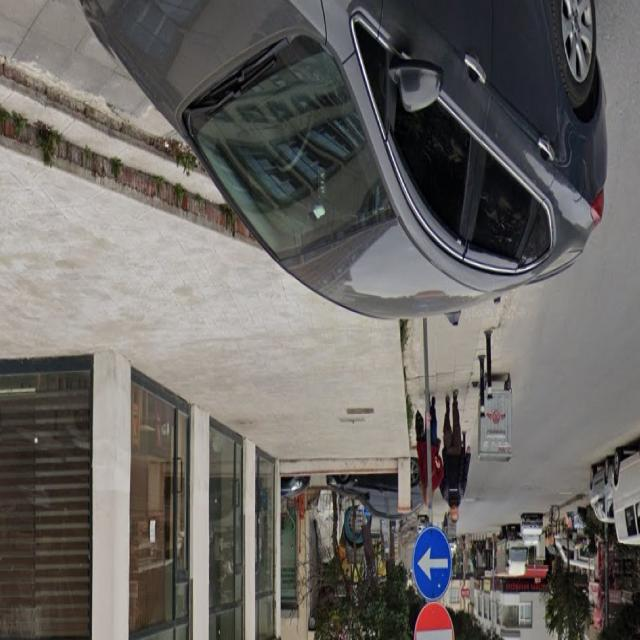Turn Left: (414, 521, 454, 599)
